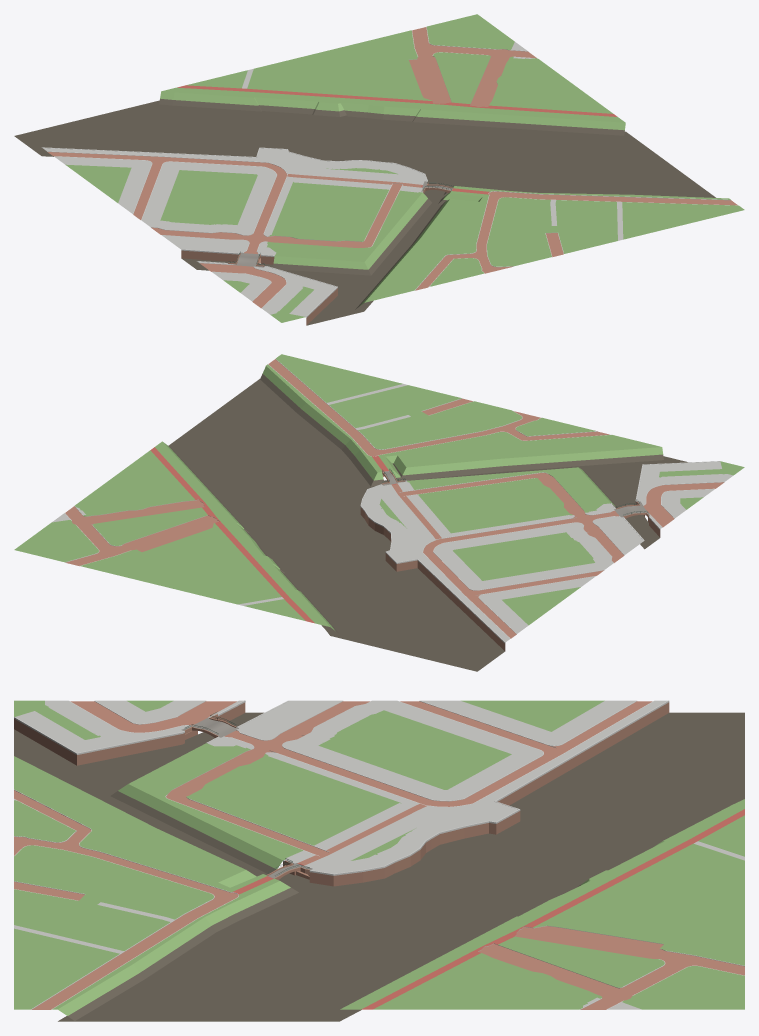
Rendered from ground_12_12.glb.
3 renders of one model, top to bottom at view 1: azimuth 30°, elevation 25°; view 2: azimuth 150°, elevation 25°; view 3: azimuth 270°, elevation 25°, orthographic. The views are drawn at different scales.
Visible parts, largest first — view 1: ground_12_12; view 2: ground_12_12; view 3: ground_12_12.
Boxes of the visible parts, x1,y1,x2,y2 form: ground_12_12: [14, 14, 744, 325]; ground_12_12: [14, 354, 744, 671]; ground_12_12: [14, 700, 744, 1021].
Size of the model in its own units: 200 by 5.05 by 200.
